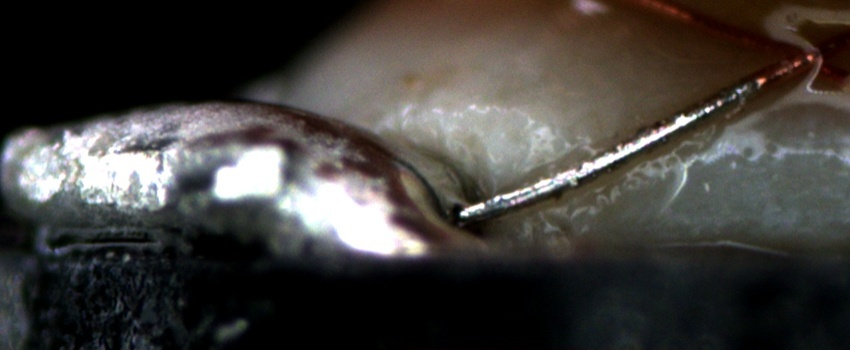CL: (751, 18, 840, 95)
TS: (456, 80, 757, 223)
